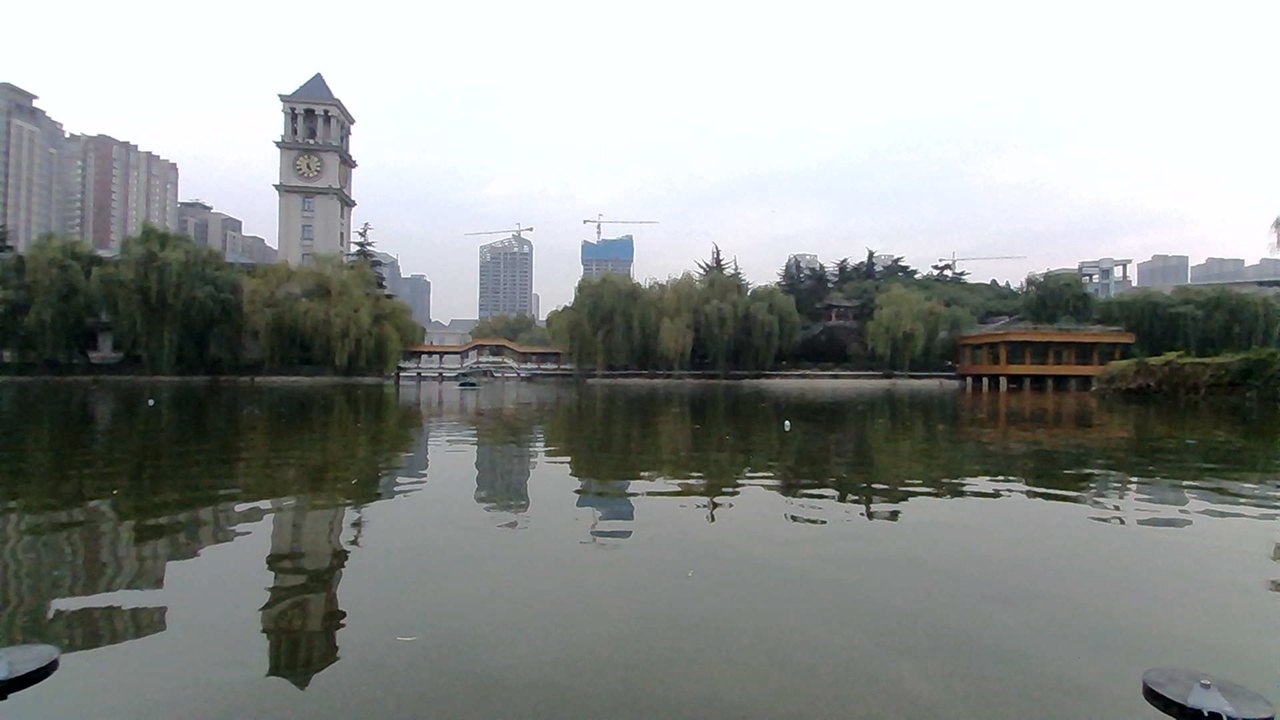bottle: (780, 409, 814, 434)
